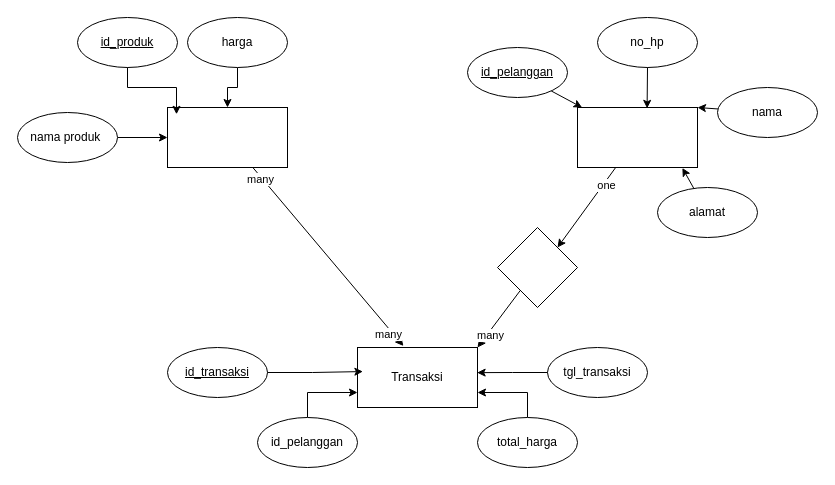
The diagram is 835 pixels wide and 485 high, and some of its shapes have lost their labels. Each missing label, with the centre of its shape:
"Barang/Produk" belongs at (227,137).
"melakukan" belongs at (537,267).
"Pelanggan" belongs at (637,137).
